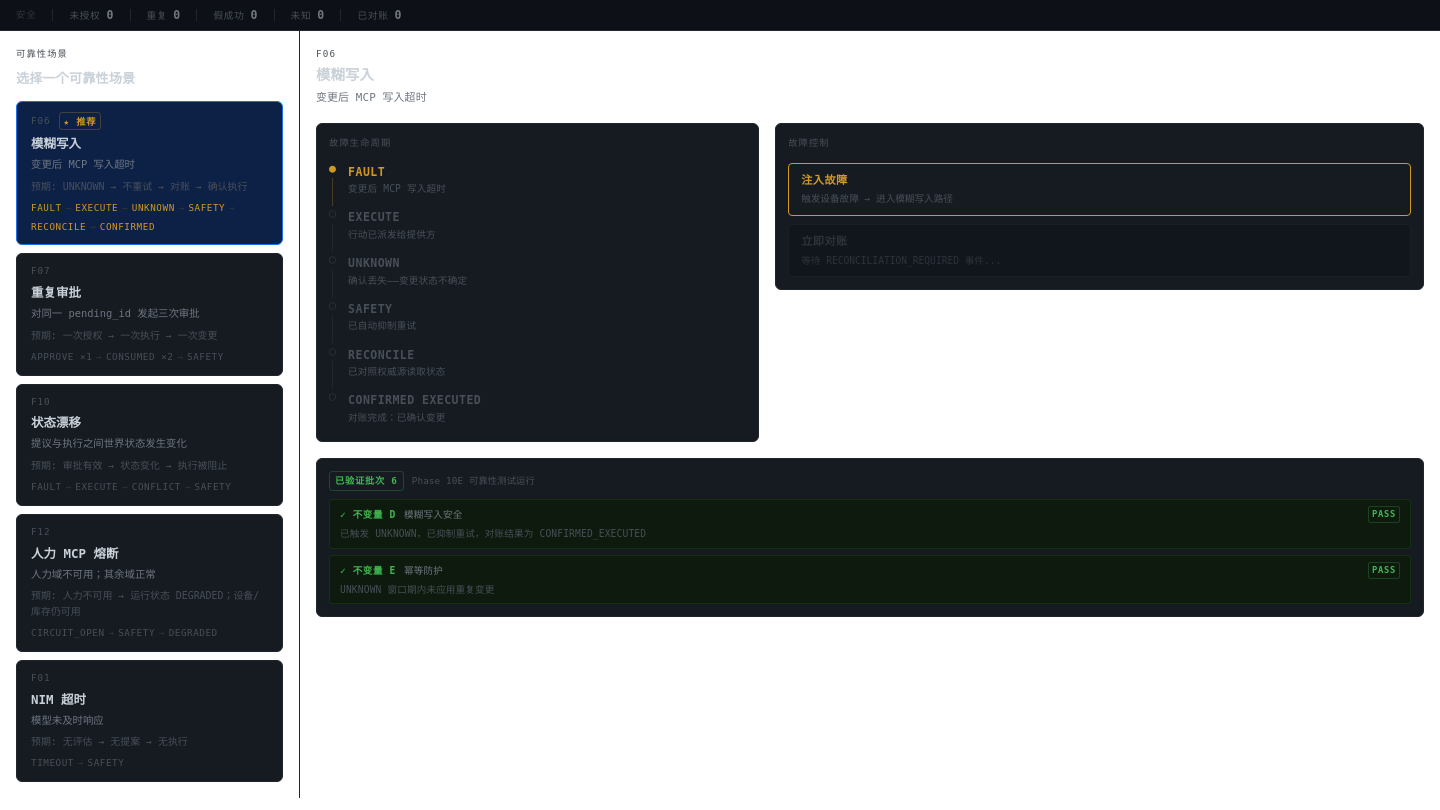
Test case: ReliabilityPanel › switches narrative on scenario card click
The image size is (1440, 810).
Click the button with test id "fault-scenario-F12": (75, 553) [16,514,283,652]
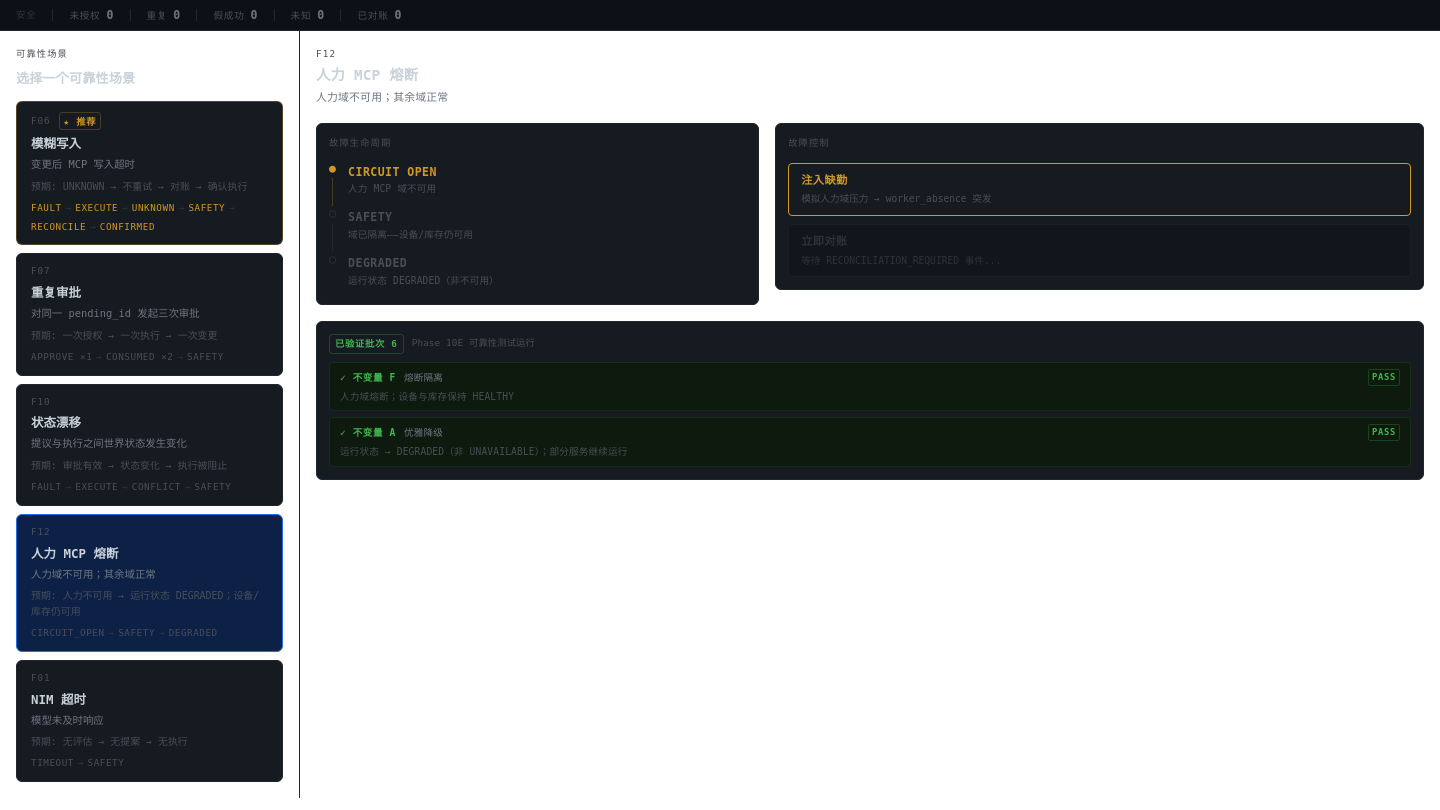
Expected: the element with test id "narrative-F12" is shown, [329,160,499,286]
